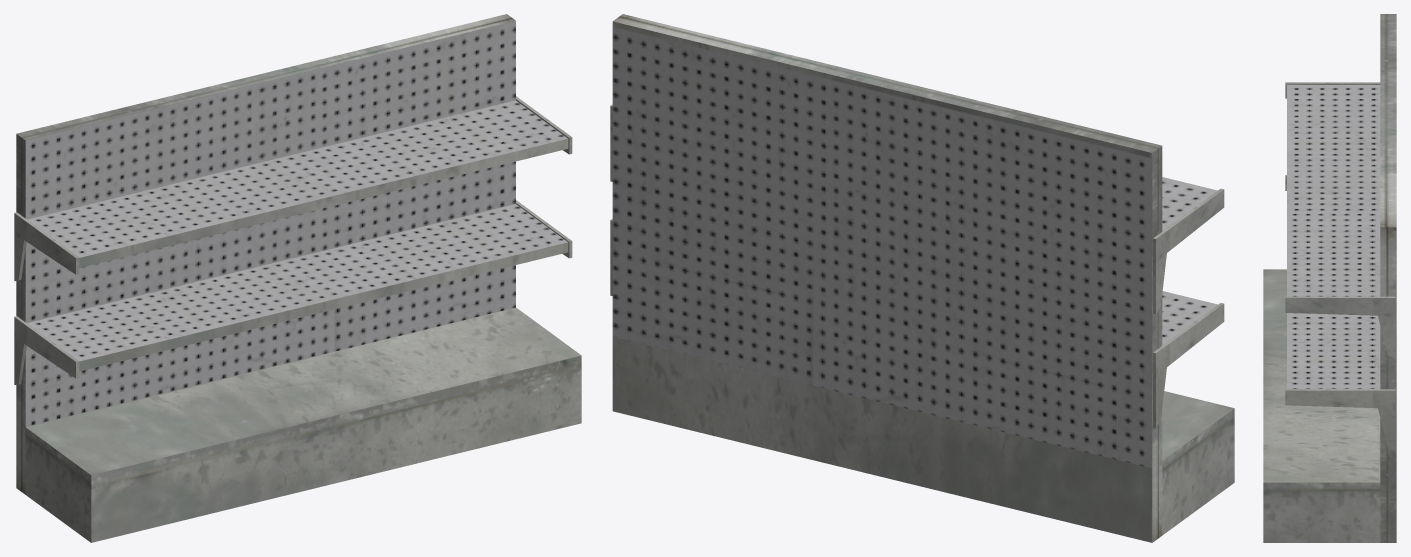
The model's file is gas_shelving.fbx.
3 views of the same model, side by side, from view 1: azimuth 30°, elevation 25°; view 2: azimuth 150°, elevation 25°; view 3: azimuth 270°, elevation 25° (orthographic). The views are drawn at different scales.
Parts seen in each view (by area): view 1: gas_shelving; view 2: gas_shelving; view 3: gas_shelving.
Boxes of the visible parts, bbox=[...] form: gas_shelving: bbox=[14, 14, 581, 542]; gas_shelving: bbox=[610, 14, 1234, 542]; gas_shelving: bbox=[1263, 14, 1396, 542].
Size of the model in its own units: 2.4 by 1.64 by 0.6278.
1 material, 1 textured.
